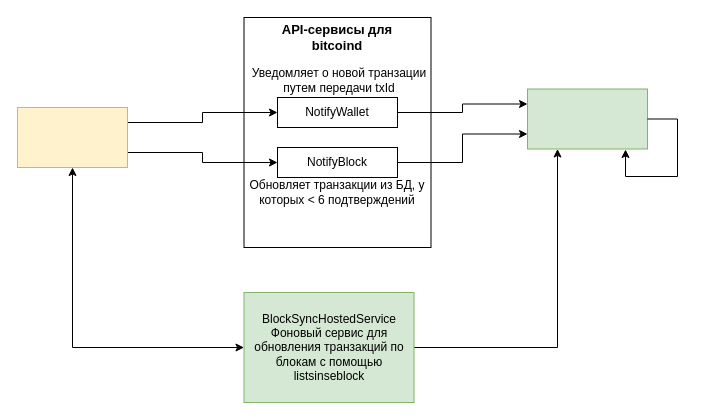
Some shapes in this 703 by 420 pixel diagram are drawn without their labels. Here are the shapes that lost their labels. From the top down, the centre of each, then its label:
the point at 72,137: Bitcoind
the point at 587,118: Очередь обновления транзакций
